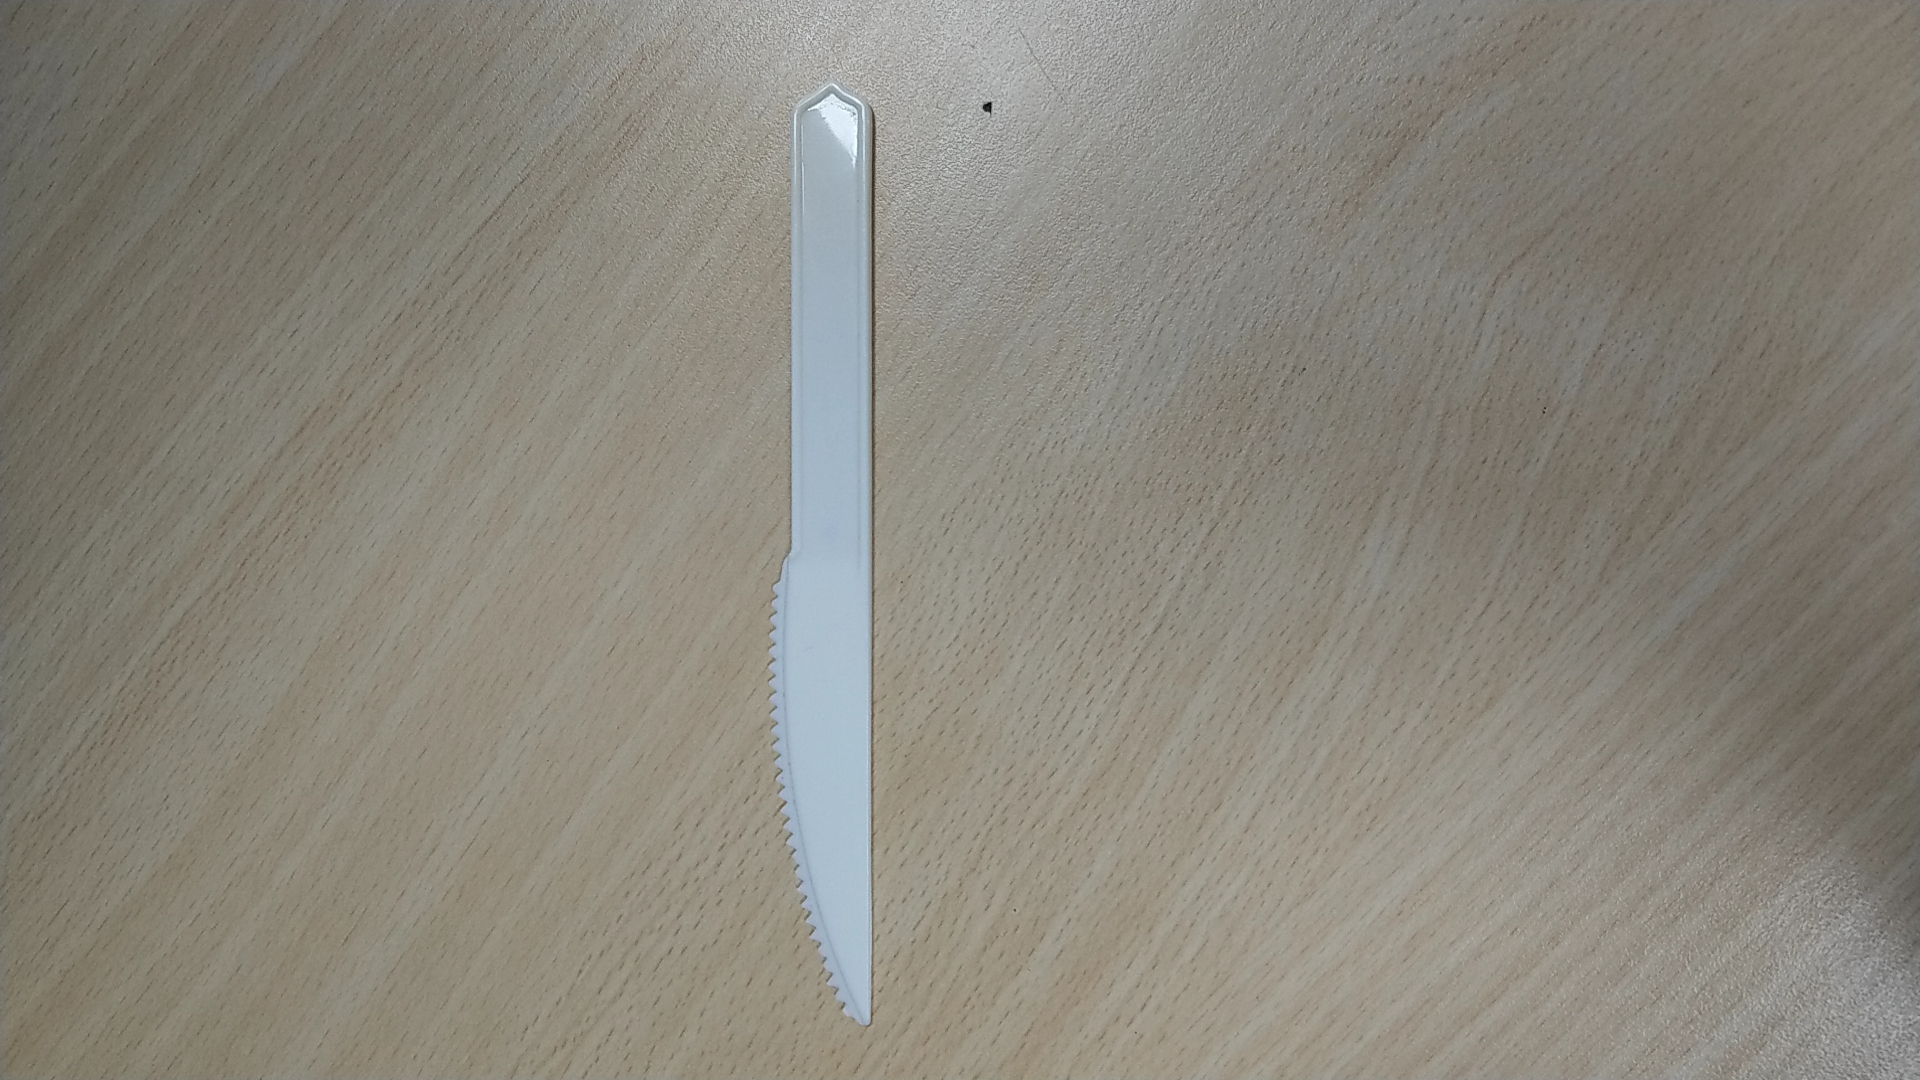knife: (746, 51, 911, 1044)
